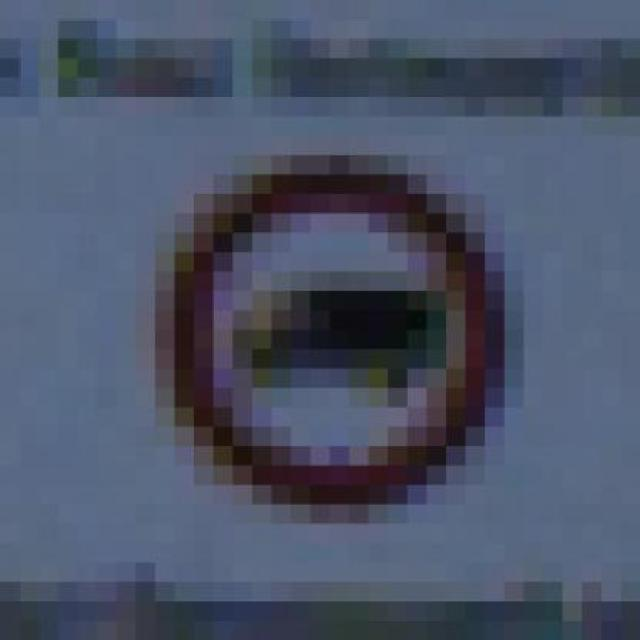Truck traffic is prohibited: (116, 136, 524, 504)
